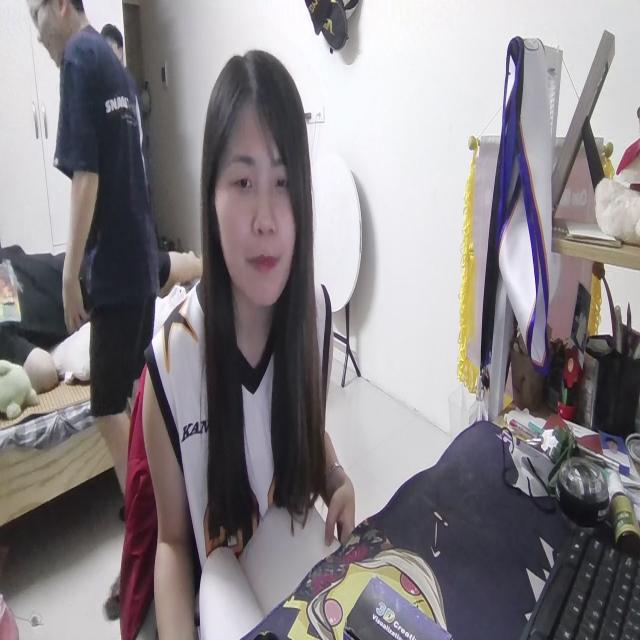book: (191, 492, 342, 640)
extra_person: (28, 0, 156, 541)
student: (139, 53, 357, 640)
